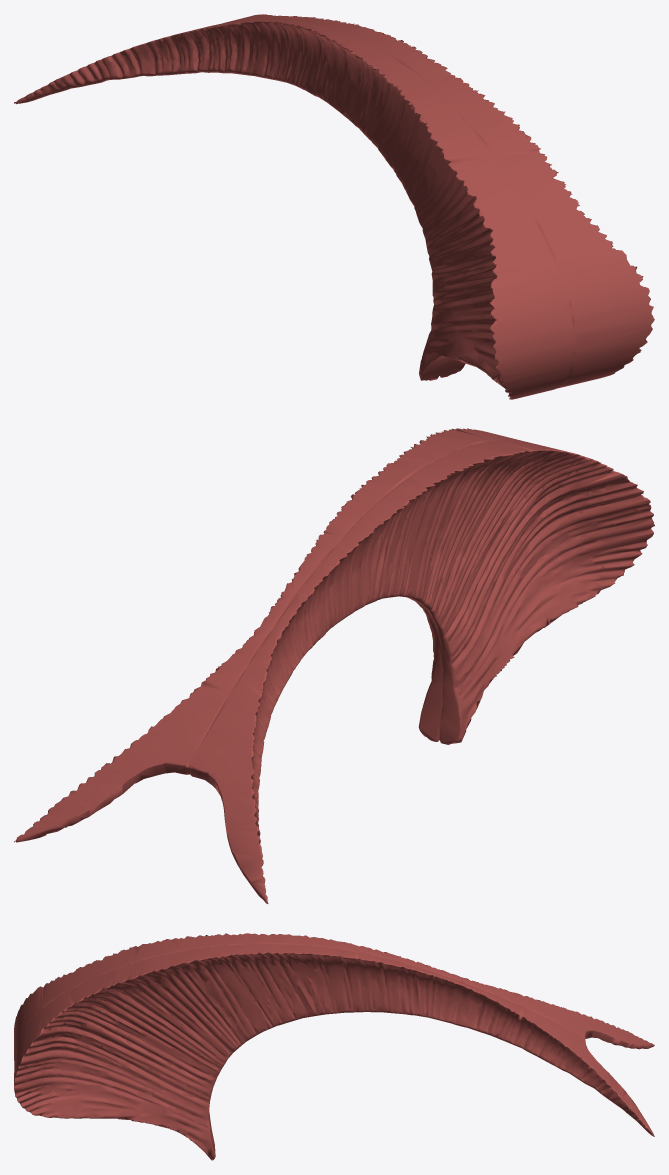
File: FMA61844.glb
3 renders of one model, top to bottom at view 1: azimuth 30°, elevation 25°; view 2: azimuth 150°, elevation 25°; view 3: azimuth 270°, elevation 25°, orthographic. The views are drawn at different scales.
Visible parts, largest first — view 1: FMA61844; view 2: FMA61844; view 3: FMA61844.
Part boxes in pixels (bbox=[...]): FMA61844: bbox=[14, 14, 654, 399]; FMA61844: bbox=[14, 428, 654, 903]; FMA61844: bbox=[14, 933, 654, 1160].
Bounding box in the file's own units: 0.02 × 0.0217 × 0.0591.
